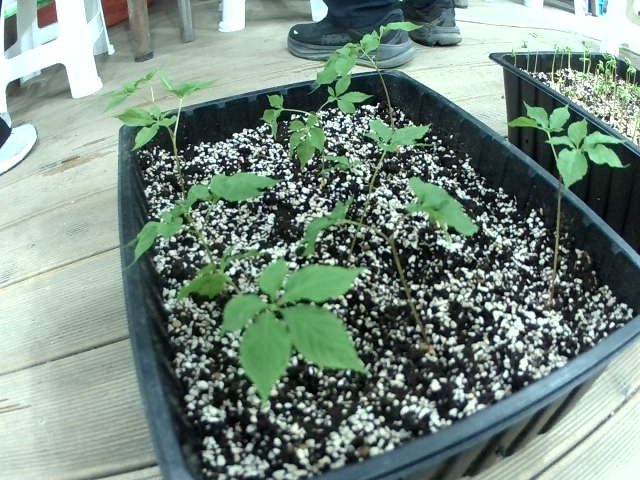수확기: (224, 263, 382, 416), (535, 124, 623, 206), (394, 175, 482, 243), (175, 240, 249, 316), (286, 115, 347, 183), (362, 116, 437, 171), (344, 12, 421, 59), (117, 104, 199, 147), (299, 201, 385, 242), (495, 102, 569, 145), (156, 63, 223, 109), (313, 39, 367, 91), (201, 168, 266, 207), (131, 215, 212, 244), (99, 67, 153, 107), (252, 88, 294, 133), (151, 177, 211, 208), (318, 93, 368, 130)
